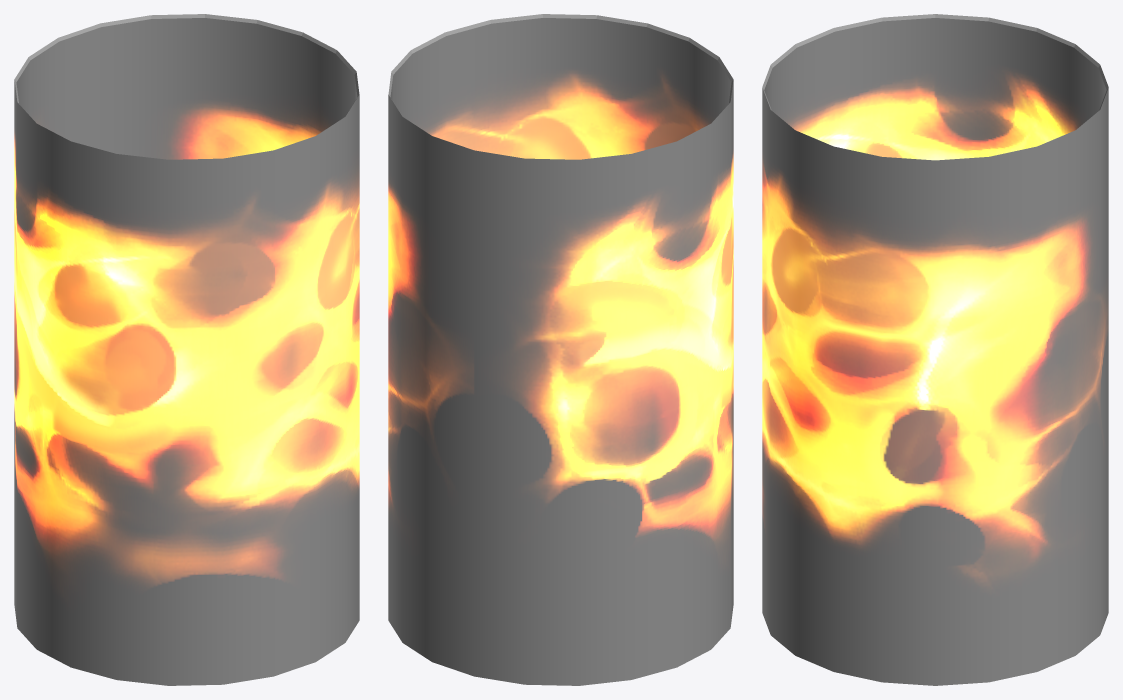
File: LevelUp.fbx
3 renders of one model, left to right at view 1: azimuth 30°, elevation 25°; view 2: azimuth 150°, elevation 25°; view 3: azimuth 270°, elevation 25°, orthographic.
Parts seen in each view (by area): view 1: pCylinder1; view 2: pCylinder1; view 3: pCylinder1.
Boxes of the visible parts, x1,y1,x2,y2 form: pCylinder1: [14, 14, 359, 685]; pCylinder1: [388, 14, 733, 685]; pCylinder1: [762, 14, 1108, 685].
Size of the model in its own units: 268 by 448 by 268.
